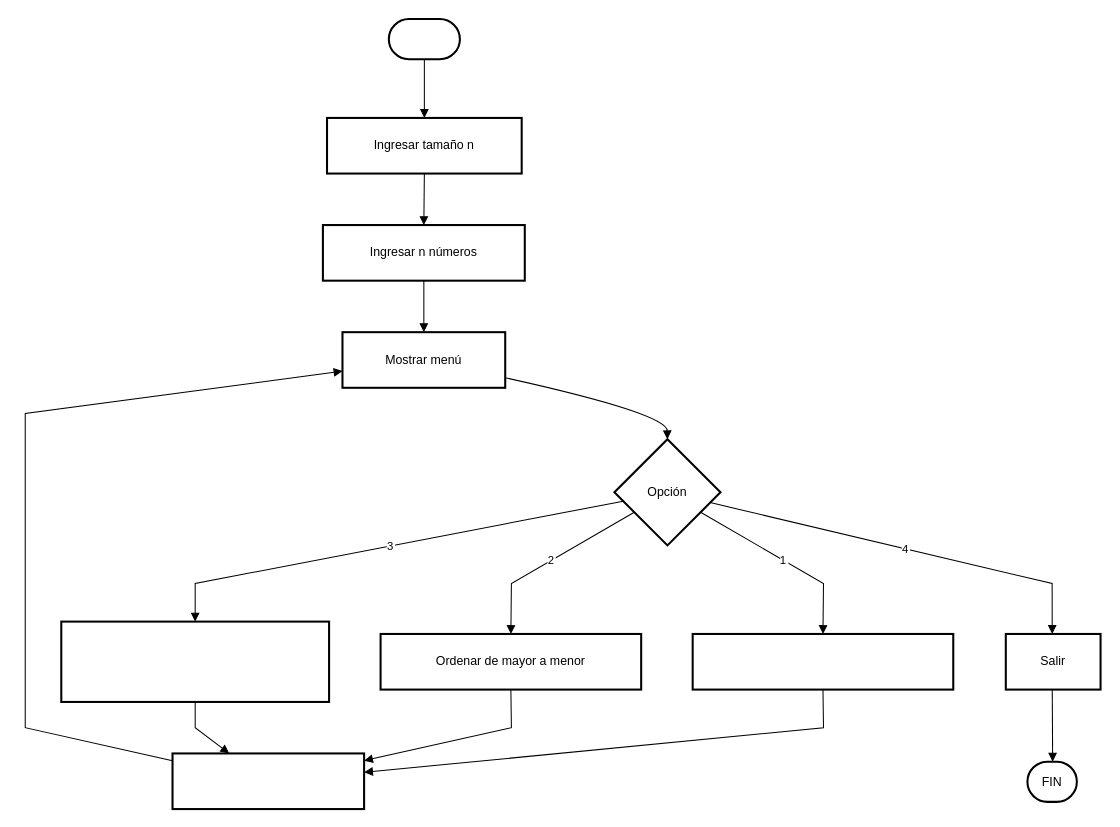
This 1120x827 diagram has some shape labels left out. The box of each missing label's shape, as (x1, y1, x2, y2) in pixels:
INICIO: (387, 18, 460, 60)
Mostrar resultado: (171, 752, 365, 810)
Ordenar de menor a mayor: (691, 632, 954, 690)
Separar pares e impares → ordenar cada grupo → unir: (60, 620, 330, 702)
